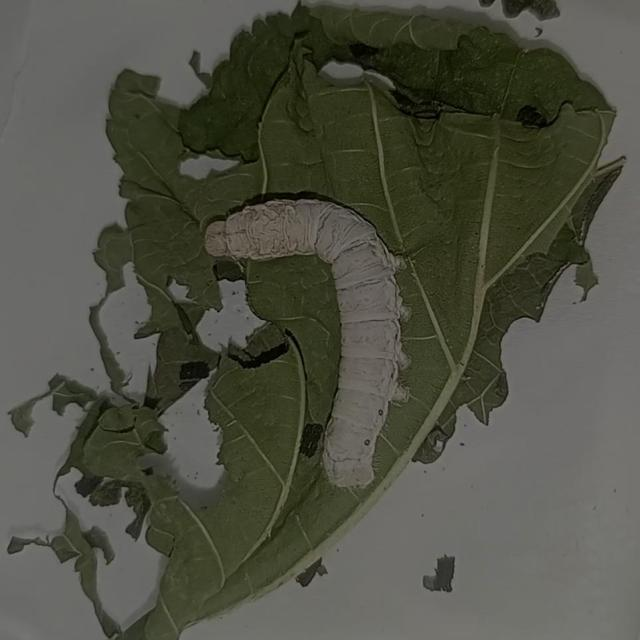Healthy: (185, 176, 471, 510)
